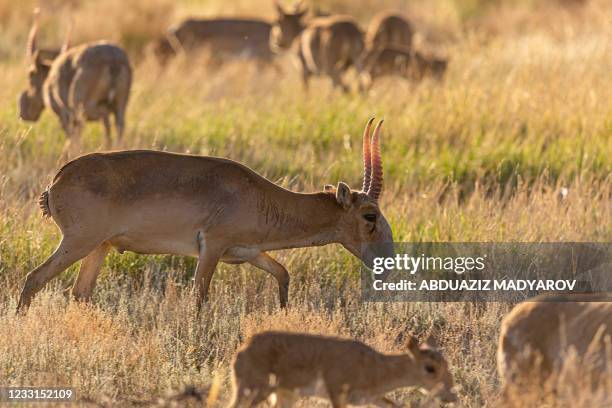saiga: (9, 116, 404, 337)
